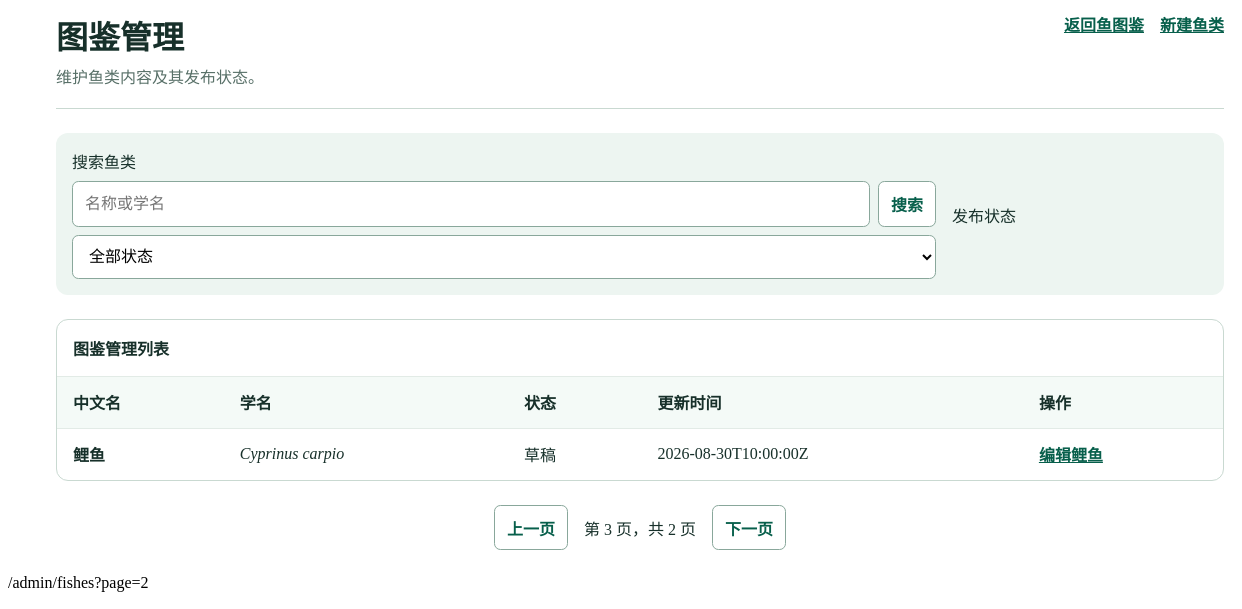
submits a keyword through the URL and resets the page
In the search field labelled "搜索鱼类": (471, 204) [72,181,870,227], type "  鲤  "
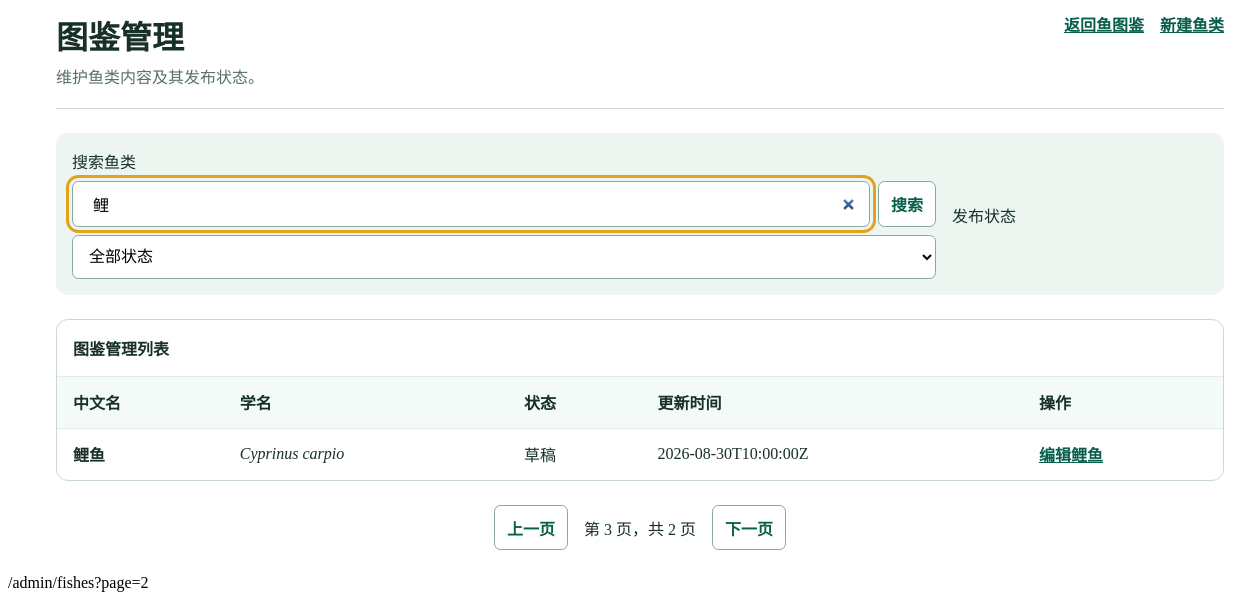
Click the button "搜索": (907, 204) [878,181,936,227]
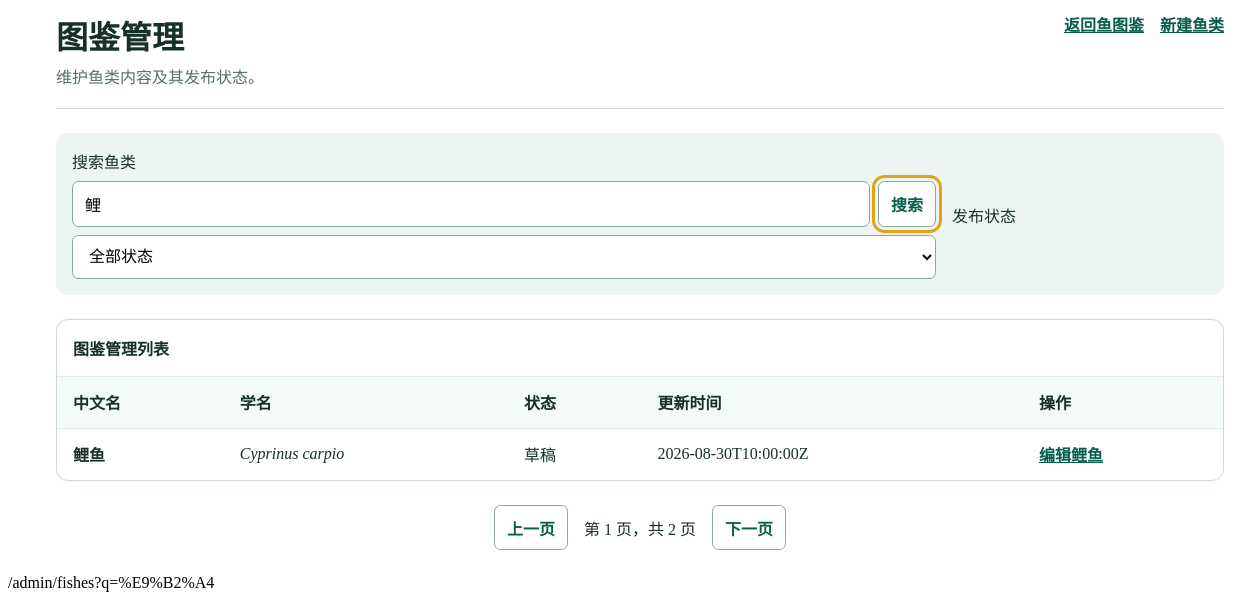
Result: the text with test id "location" reads "/admin/fishes?q=%E9%B2%A4" at [8,574,214,591]
